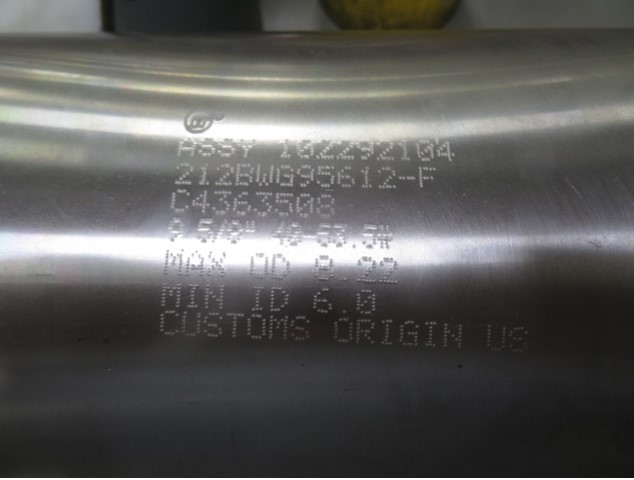character: (440, 319, 466, 355), (506, 323, 531, 359), (354, 254, 381, 287), (310, 252, 336, 285), (378, 253, 401, 287), (287, 314, 313, 344), (159, 248, 185, 278), (205, 247, 230, 278), (203, 283, 228, 313), (309, 285, 334, 315), (353, 285, 378, 315), (247, 251, 272, 281), (484, 322, 507, 354), (354, 317, 377, 349), (419, 318, 440, 353), (273, 191, 297, 221), (252, 161, 276, 191), (330, 318, 353, 349), (379, 317, 397, 355), (399, 318, 420, 350), (184, 247, 205, 279), (170, 187, 194, 215), (268, 286, 291, 315), (269, 314, 291, 344), (204, 311, 226, 341), (271, 251, 292, 282), (415, 164, 440, 190), (158, 281, 182, 308), (315, 163, 338, 191), (180, 309, 202, 338), (233, 190, 255, 219), (212, 189, 234, 218), (375, 136, 397, 165), (247, 312, 267, 343), (277, 161, 297, 191), (335, 164, 357, 191), (271, 219, 290, 250), (296, 191, 315, 222), (158, 309, 179, 337), (173, 160, 194, 188), (296, 163, 316, 192), (377, 165, 399, 191), (237, 135, 259, 161), (376, 220, 395, 250), (194, 159, 213, 189), (192, 188, 213, 215), (355, 135, 375, 163), (360, 219, 378, 250), (255, 190, 274, 219), (226, 311, 247, 337), (315, 193, 336, 219), (415, 137, 436, 163), (250, 282, 268, 312), (196, 215, 214, 245), (436, 138, 457, 163), (184, 282, 202, 311), (167, 215, 185, 244), (233, 161, 253, 187), (337, 136, 356, 163), (297, 136, 316, 163), (332, 218, 349, 248), (315, 219, 333, 247), (287, 220, 305, 248), (278, 136, 296, 164), (197, 134, 217, 159), (215, 162, 234, 188), (226, 218, 244, 245), (357, 165, 375, 192), (217, 135, 237, 159), (396, 138, 413, 163), (317, 135, 333, 161), (177, 135, 195, 158)
